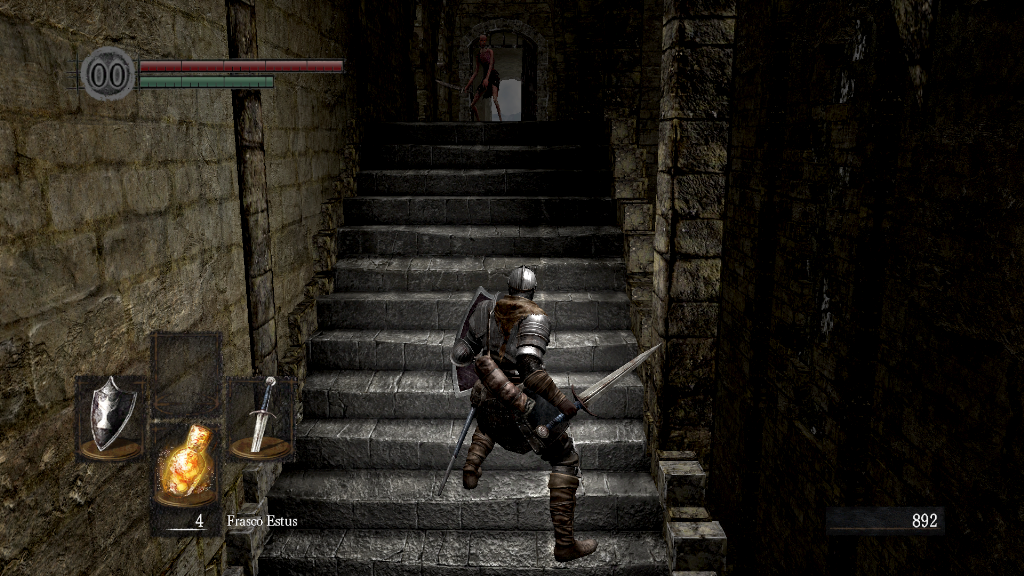health: (138, 58, 343, 71)
hollow: (466, 36, 506, 121)
humanity: (80, 45, 136, 102)
player: (437, 267, 664, 564)
souls: (825, 506, 945, 536)
stamina: (138, 74, 274, 88)
